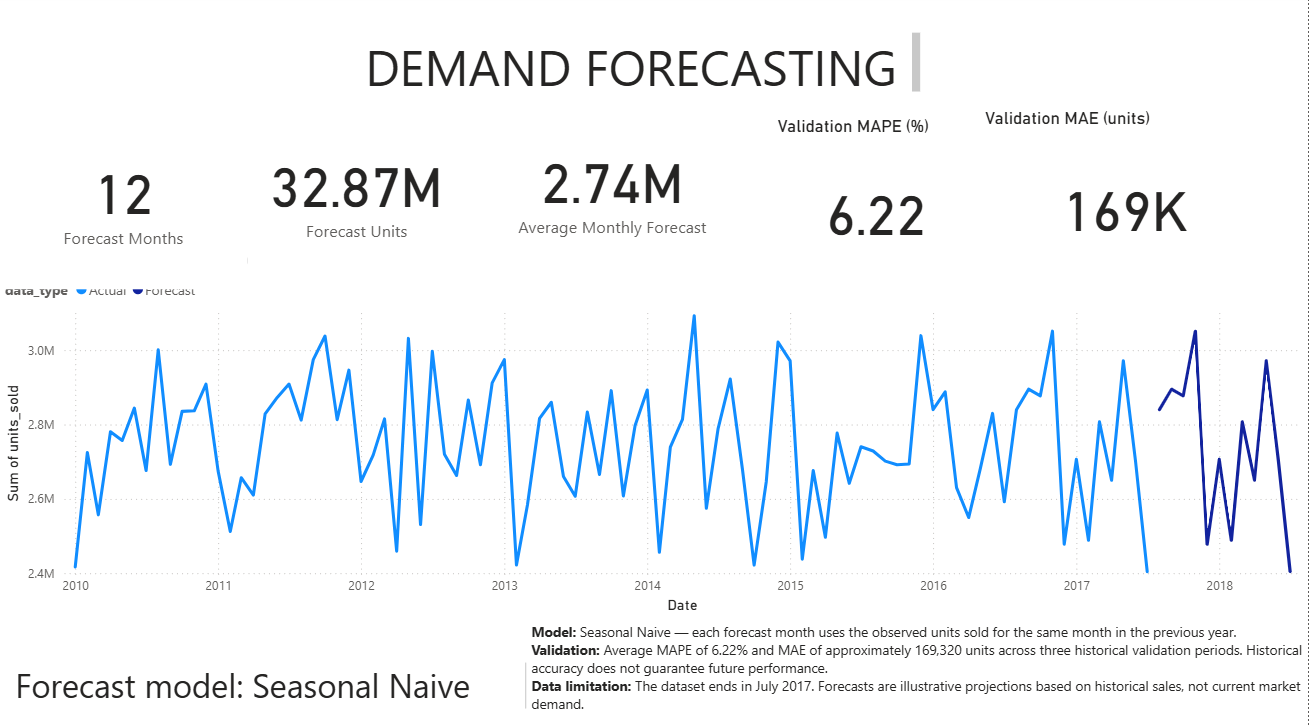

The page's visual inventory and layout, read from the dashboard file:
{"tool":"powerbi","page":{"name":"Demand Forecasting","canvas":[1280,720],"ordinal":2},"visuals":[{"type":"lineChart","title":"Monthly Units Sold: Actual vs Forecast","fields":{"Category":["historical_forecast_combined.date.Variation.Date Hierarchy.Year","historical_forecast_combined.date.Variation.Date Hierarchy.Month"],"Y":["Sum(historical_forecast_combined.units_sold)"],"Series":["historical_forecast_combined.data_type"]},"box":[0,249.7,1280.3,360.9],"z":0},{"type":"card","fields":{"Values":["retail_sales_analytics monthly_forecast.Average Monthly Forecast"]},"box":[481.6,135.8,249.7,119.4],"z":1},{"type":"card","fields":{"Values":["retail_sales_analytics monthly_forecast.Forecast Months"]},"box":[0,135.8,256.6,113.9],"z":2},{"type":"card","title":"Validation MAE (units)","fields":{"Values":["retail_sales_analytics monthly_forecast.Validation MAE"]},"box":[966,140,267.6,115.3],"z":3},{"type":"card","fields":{"Values":["retail_sales_analytics monthly_forecast.Forecast Units"]},"box":[256.6,140,214.1,109.8],"z":4},{"type":"card","title":"Validation MAPE (%)","fields":{"Values":["retail_sales_analytics monthly_forecast.Validation MAPE"]},"box":[756.1,140,193.5,109.8],"z":5},{"type":"textbox","box":[0,54.9,635.3,50.8],"z":6},{"type":"textbox","box":[9.6,649.1,517.3,61.7],"z":7},{"type":"textbox","box":[514.6,610.6,765.7,109.8],"z":8}]}

Visuals, with their boxes in screenshot pixels (x1, y1, x2, y2), scaled from the page's 1280x720 canvas onto the 1309x725 screenshot:
"Monthly Units Sold: Actual vs Forecast" lineChart: {"x1": 0, "y1": 251, "x2": 1308, "y2": 615}
card - retail_sales_analytics monthly_forecast.Average Monthly Forecast: {"x1": 493, "y1": 137, "x2": 748, "y2": 257}
card - retail_sales_analytics monthly_forecast.Forecast Months: {"x1": 0, "y1": 137, "x2": 262, "y2": 251}
"Validation MAE (units)" card: {"x1": 988, "y1": 141, "x2": 1262, "y2": 257}
card - retail_sales_analytics monthly_forecast.Forecast Units: {"x1": 262, "y1": 141, "x2": 481, "y2": 252}
"Validation MAPE (%)" card: {"x1": 773, "y1": 141, "x2": 971, "y2": 252}
textbox: {"x1": 0, "y1": 55, "x2": 650, "y2": 106}
textbox: {"x1": 10, "y1": 654, "x2": 539, "y2": 716}
textbox: {"x1": 526, "y1": 615, "x2": 1308, "y2": 724}
